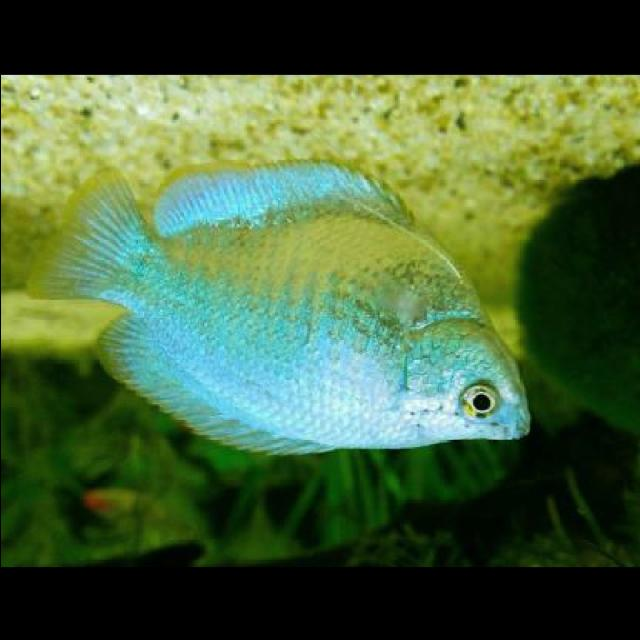Gourami: (27, 160, 527, 458)
